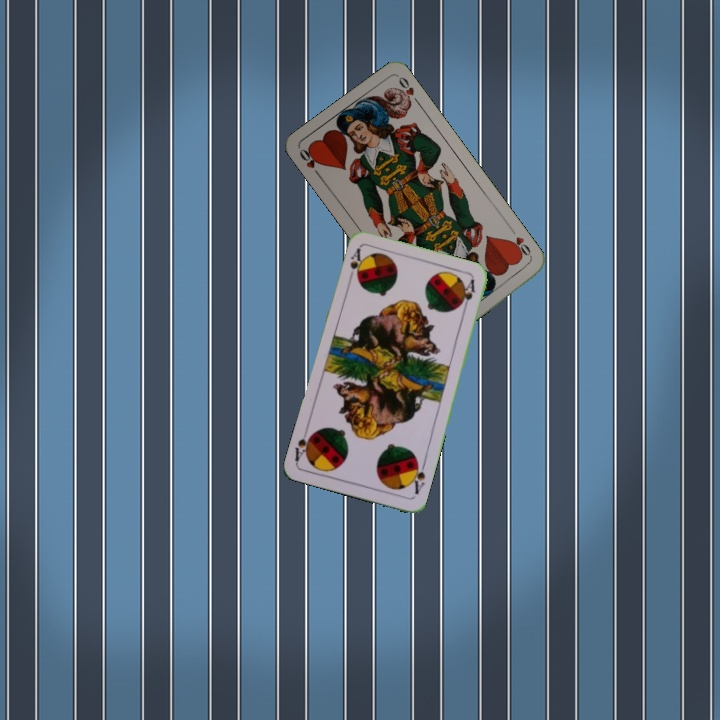HO: (295, 144, 324, 181), (505, 225, 534, 261)
SA: (406, 457, 428, 497), (345, 244, 366, 284)
